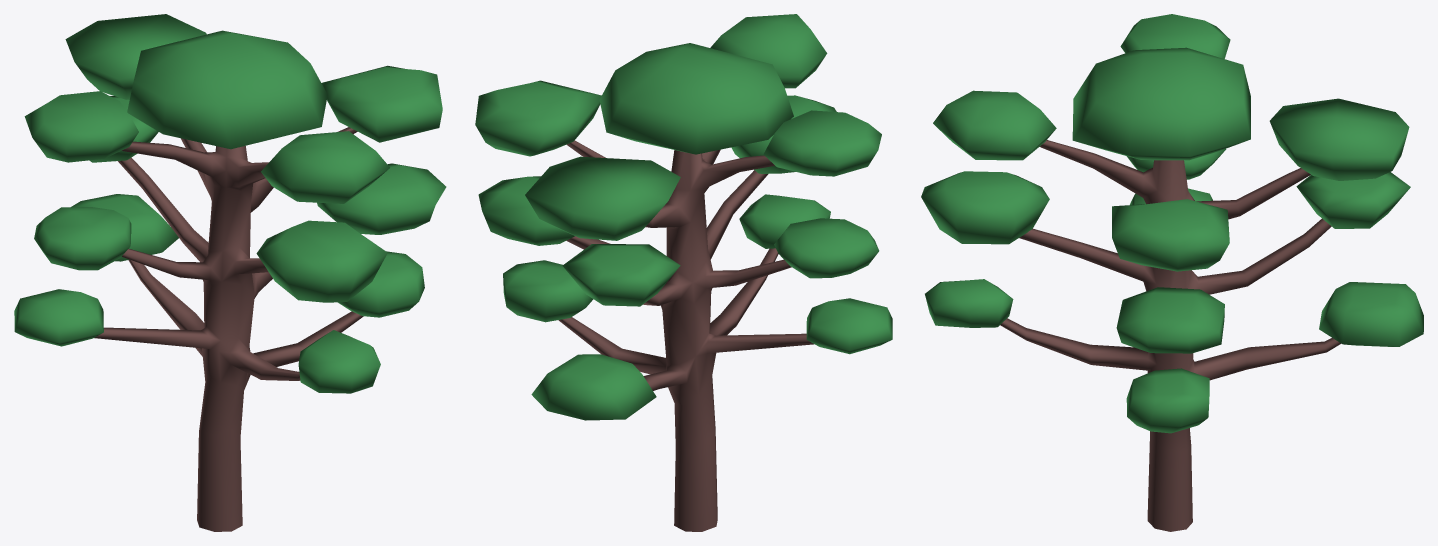
Rendered from Arvore_Japonesa_1.fbx.
The picture shows the model from 3 angles, left to right: view 1: azimuth 30°, elevation 25°; view 2: azimuth 150°, elevation 25°; view 3: azimuth 270°, elevation 25°; orthographic projection. The views are drawn at different scales.
Parts seen in each view (by area): view 1: Arvore_Japonesa_1; view 2: Arvore_Japonesa_1; view 3: Arvore_Japonesa_1.
Part boxes in pixels (bbox=[...]): Arvore_Japonesa_1: bbox=[14, 14, 446, 531]; Arvore_Japonesa_1: bbox=[475, 14, 892, 531]; Arvore_Japonesa_1: bbox=[921, 14, 1423, 531].
Bounding box in the file's own units: 5.49 × 5.17 × 5.54.
